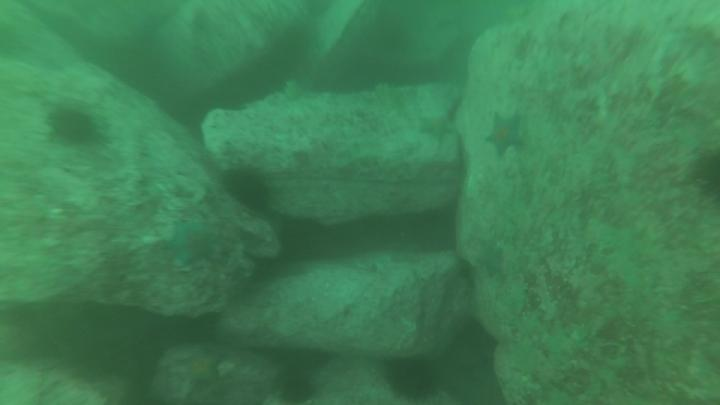echinus: (40, 103, 105, 150), (219, 166, 276, 215), (385, 356, 440, 405), (686, 149, 720, 200), (274, 373, 317, 405)
holothurian: (374, 81, 413, 119)
starfish: (170, 217, 223, 269), (178, 346, 227, 388), (484, 113, 525, 159), (473, 236, 507, 282), (416, 115, 455, 144)
